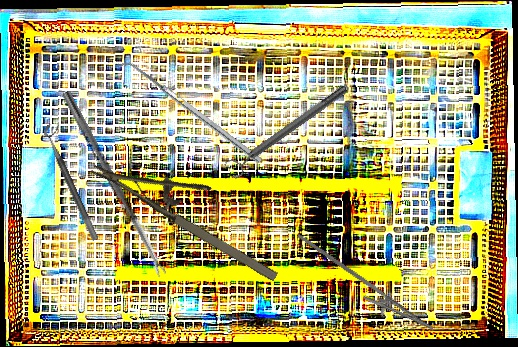Fixation Ring: (222, 80, 353, 181), (41, 120, 109, 242)
Needle Holder: (90, 127, 298, 288), (282, 232, 443, 342)
Spatula Surgical: (116, 55, 263, 169)
Surgical Spoon: (60, 90, 167, 278)
